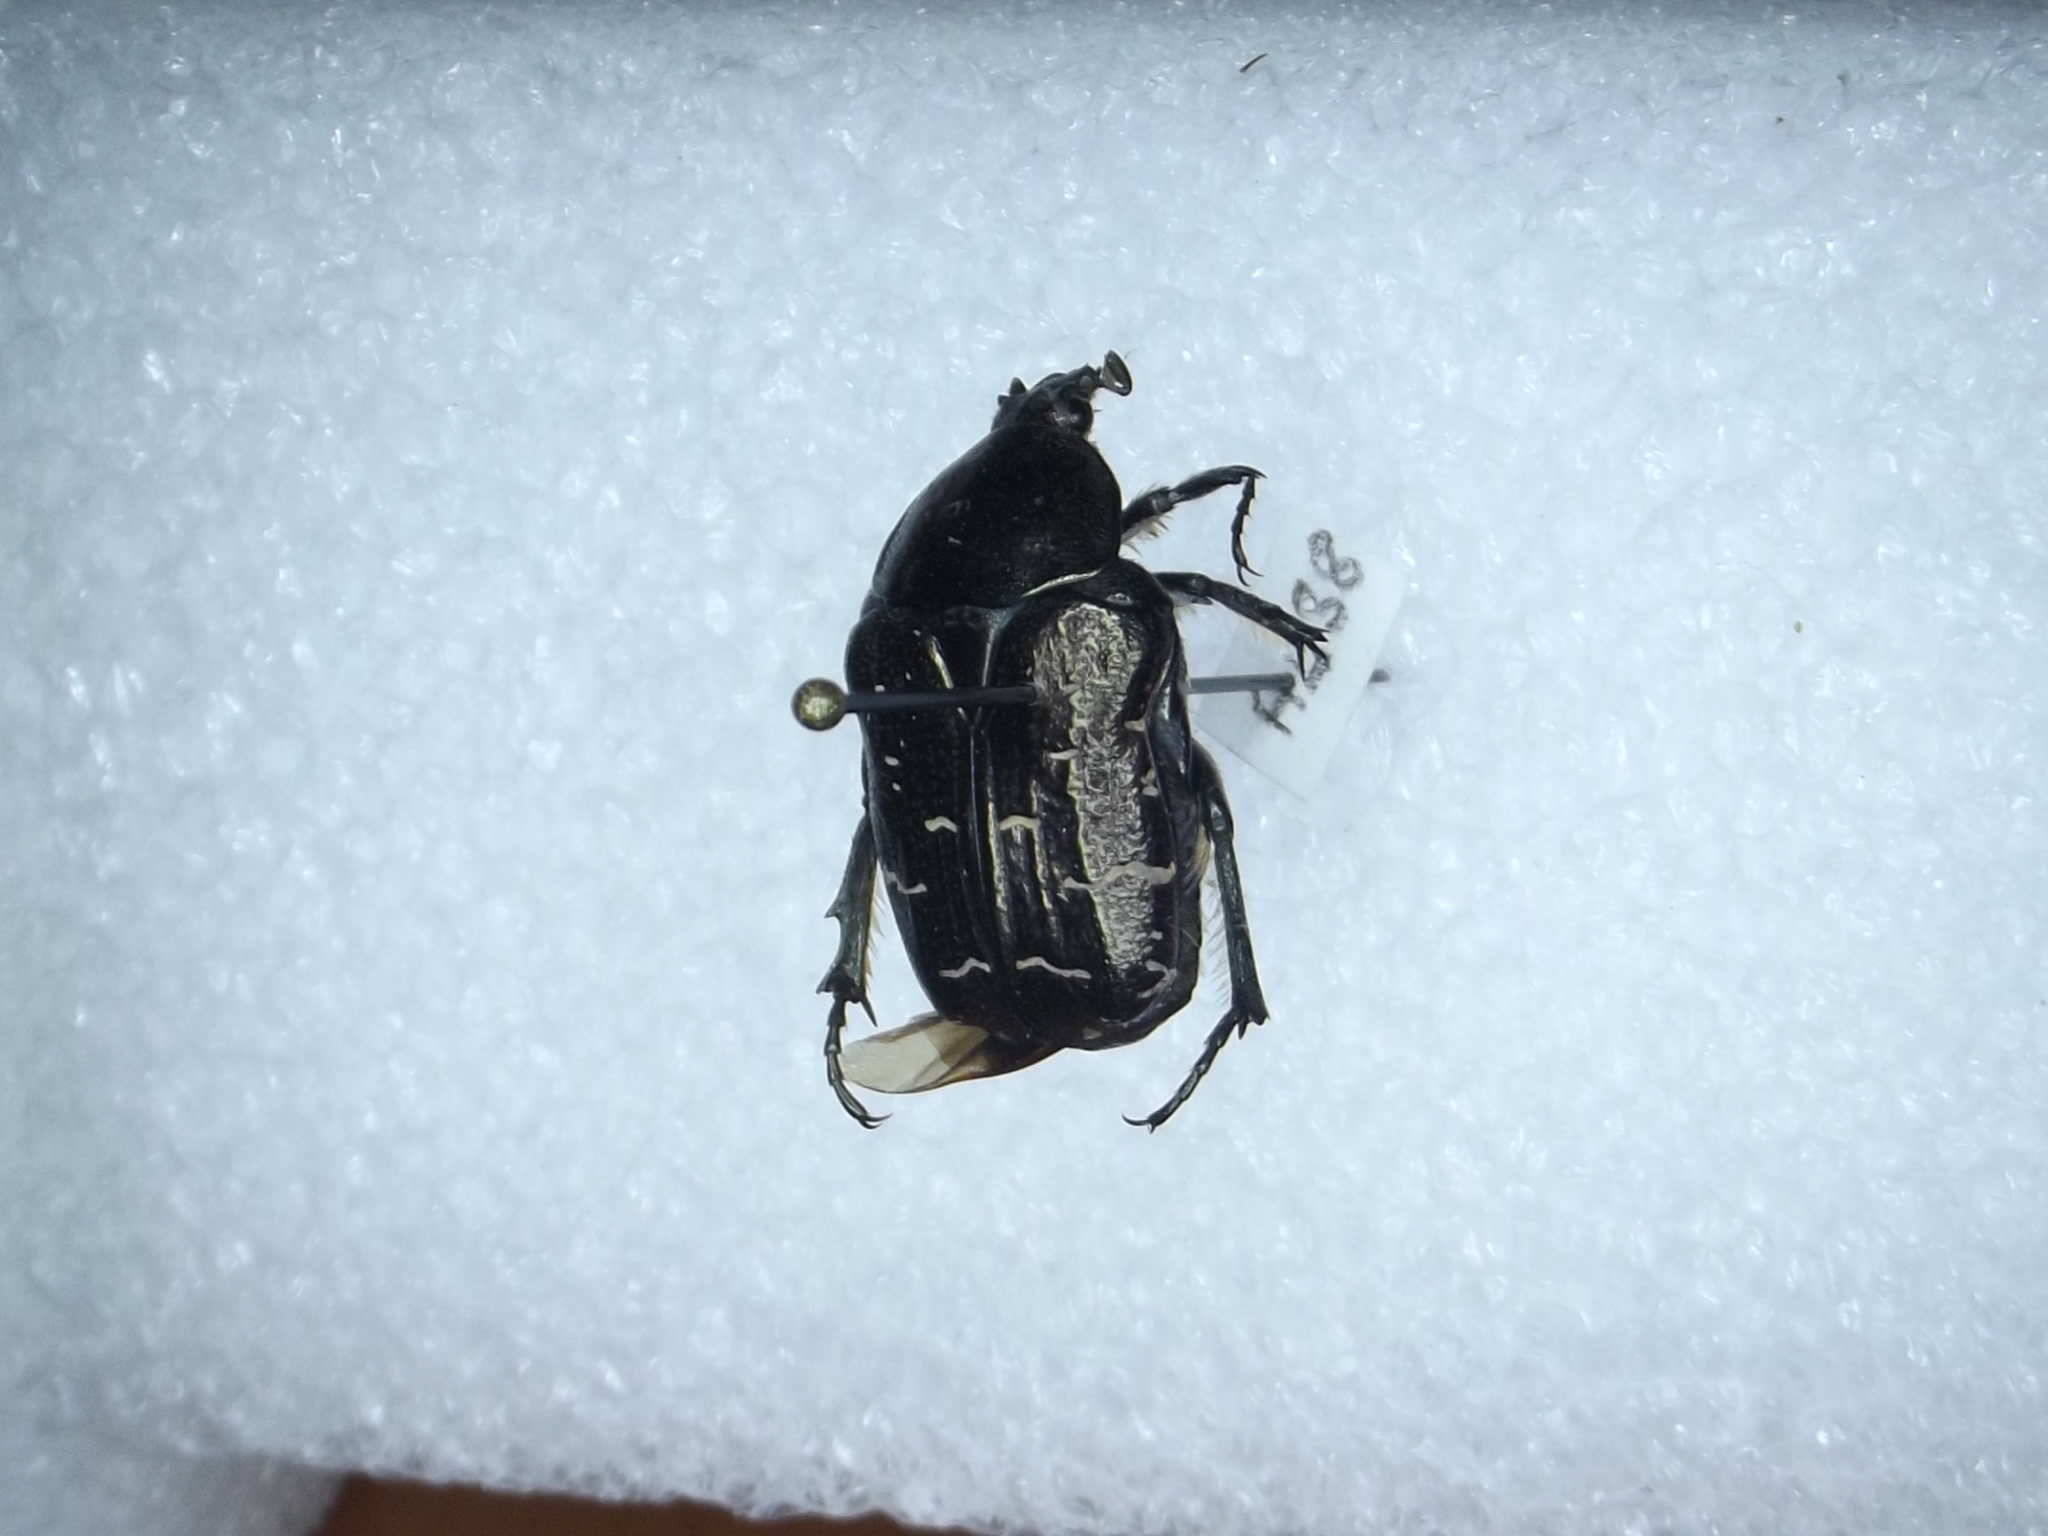Cetonia_kemali: (810, 328, 1284, 1134)
